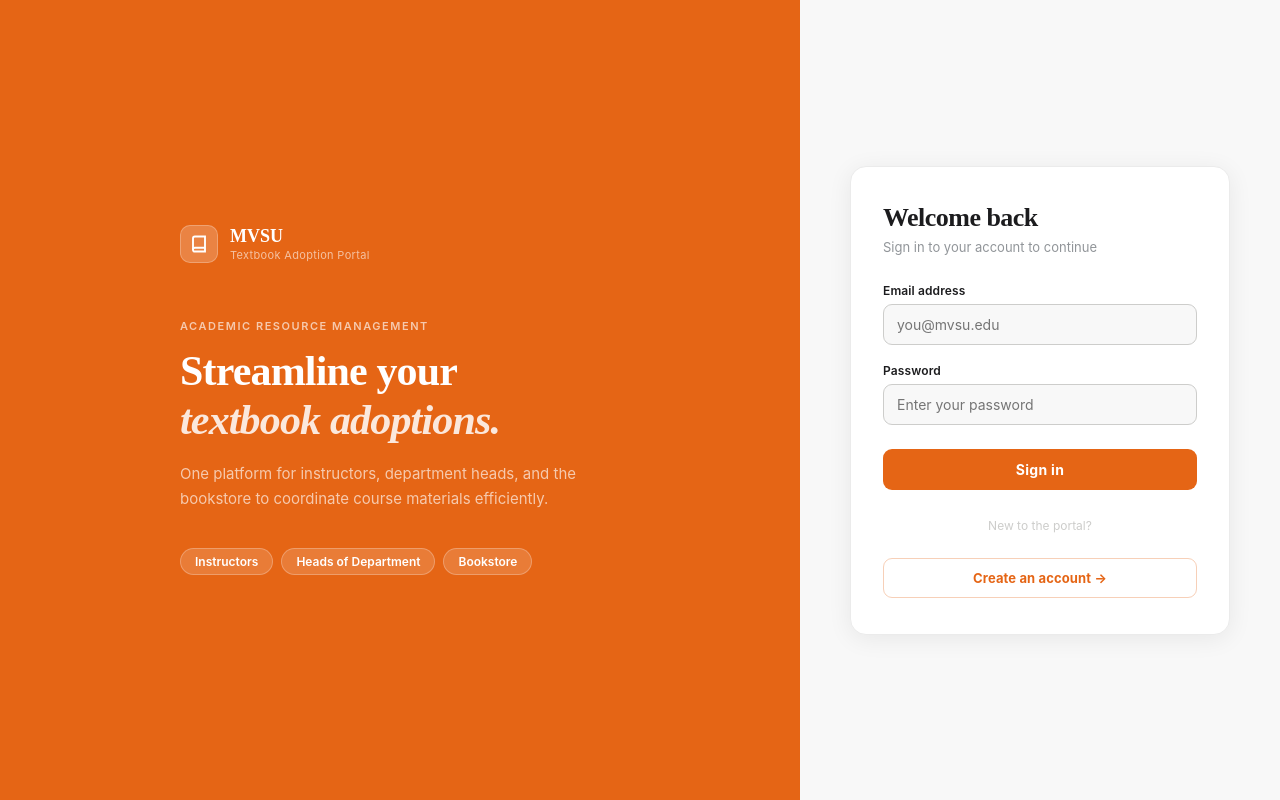
login stores session and opens the Bookstore dashboard
The image size is (1280, 800).
Type "demo@example.test" into the field with placeholder "you@mvsu.edu".
click(1040, 324); type("demo@example.test")  # box [883,304,1197,344]
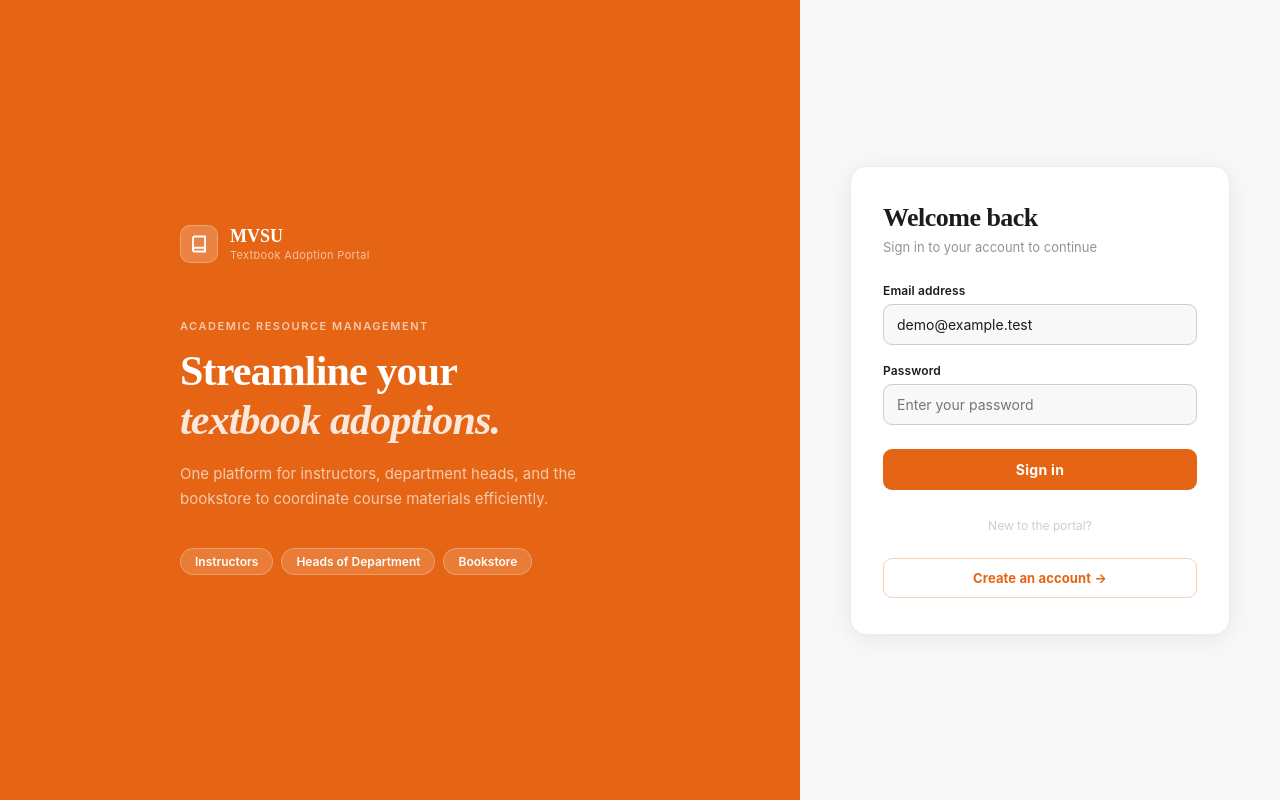
Type "DemoTextbooks!2026" into the password field with placeholder "Enter your password".
click(1040, 404); type("DemoTextbooks!2026")  # box [883,384,1197,424]
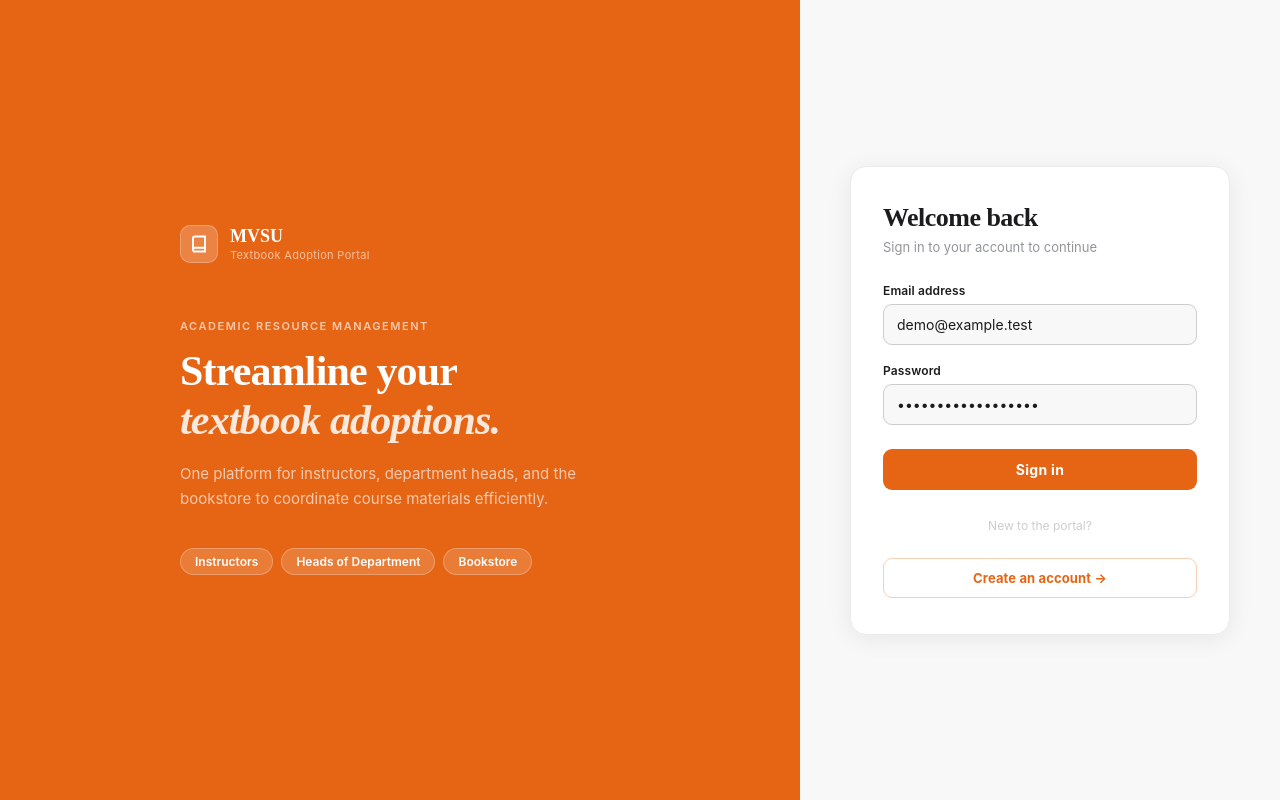
Click the button "Sign in".
click(1040, 469)  # box [883,448,1197,490]
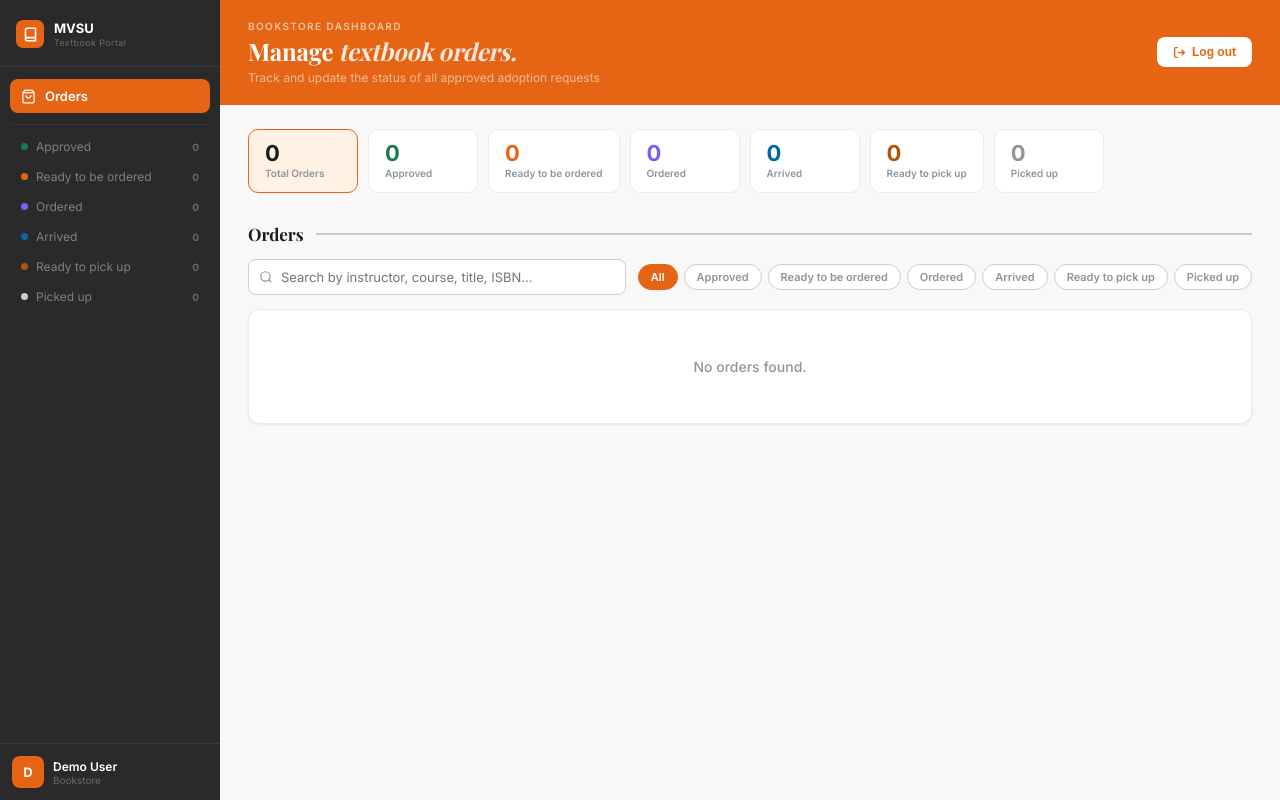
Now the text "Bookstore Dashboard" is shown, box [248,20,402,32]
